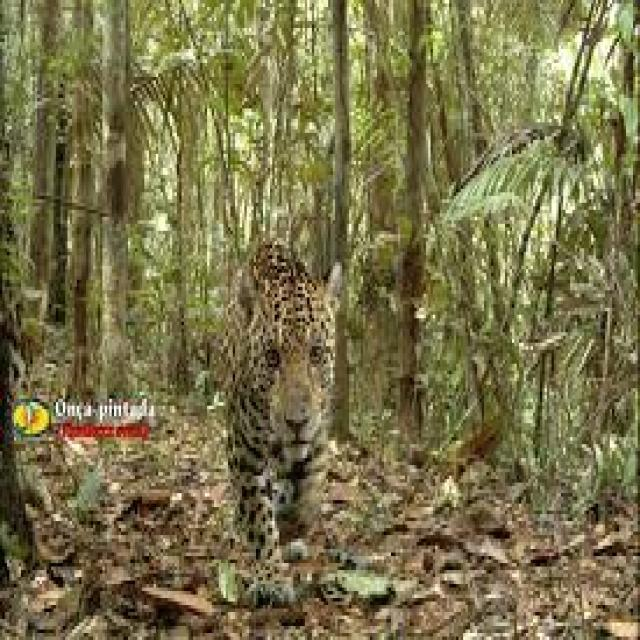Jaguar: (212, 227, 335, 598)
